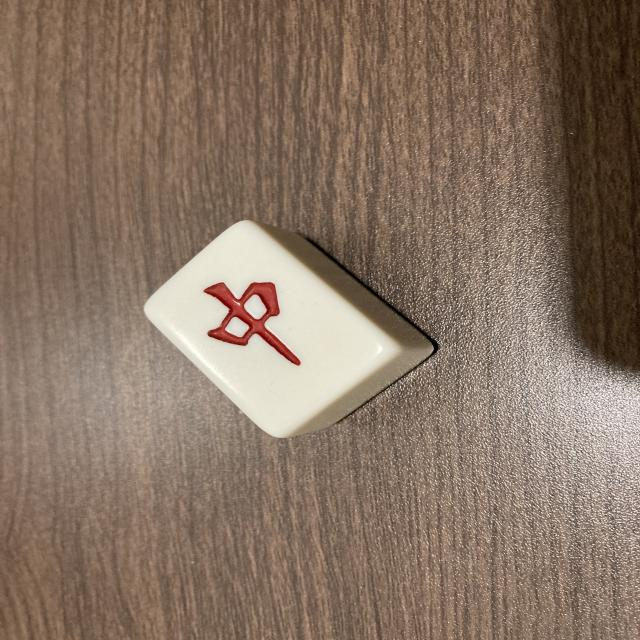zhong: (144, 215, 391, 444)
